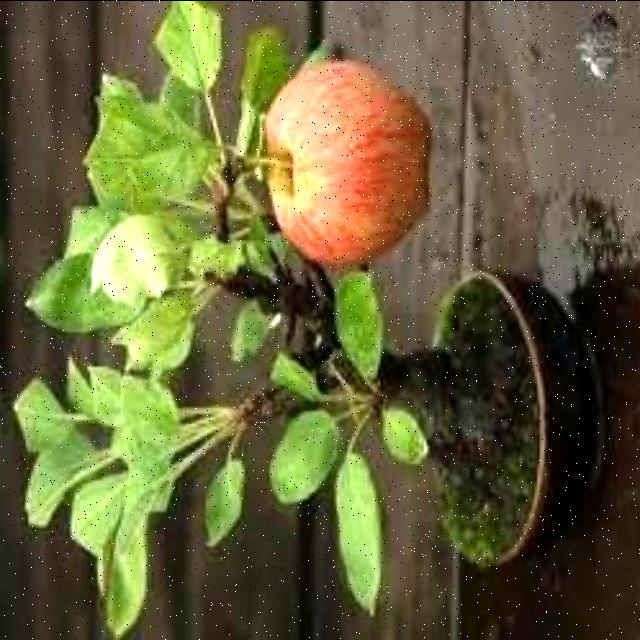HEALTHY: (245, 38, 434, 270)
